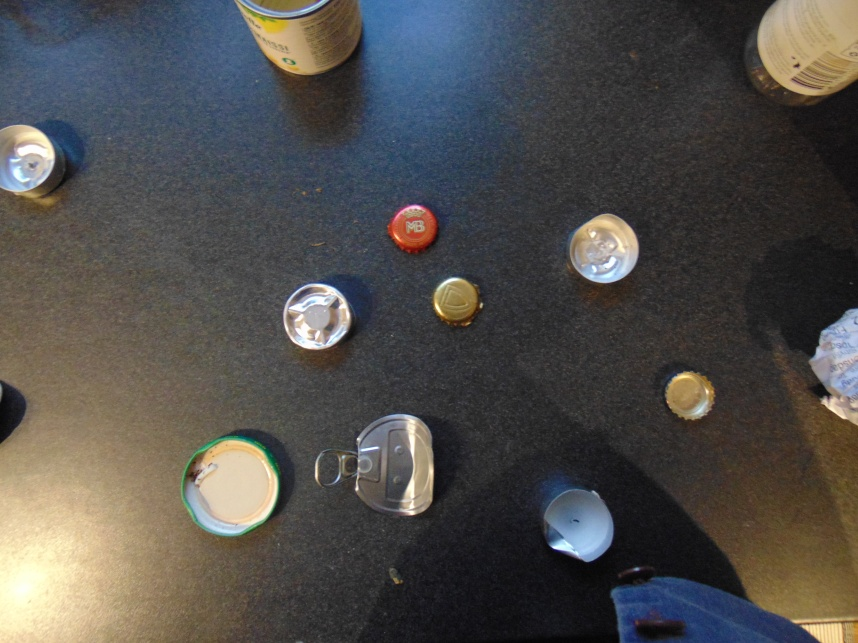metal: (312, 412, 435, 524), (179, 432, 278, 539), (536, 480, 615, 562), (567, 210, 638, 286), (1, 122, 69, 200), (283, 281, 352, 353), (427, 274, 483, 329), (663, 370, 715, 424)
metal_can: (235, 1, 362, 80)
plastic_bottle: (745, 1, 858, 106)
